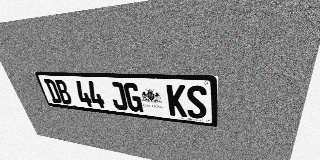4: (85, 81, 106, 108), (73, 80, 93, 107)
B: (54, 79, 73, 105)
D: (43, 79, 63, 103)
G: (123, 82, 143, 112)
J: (108, 82, 128, 111)
K: (166, 84, 187, 117)
S: (186, 85, 207, 119)
